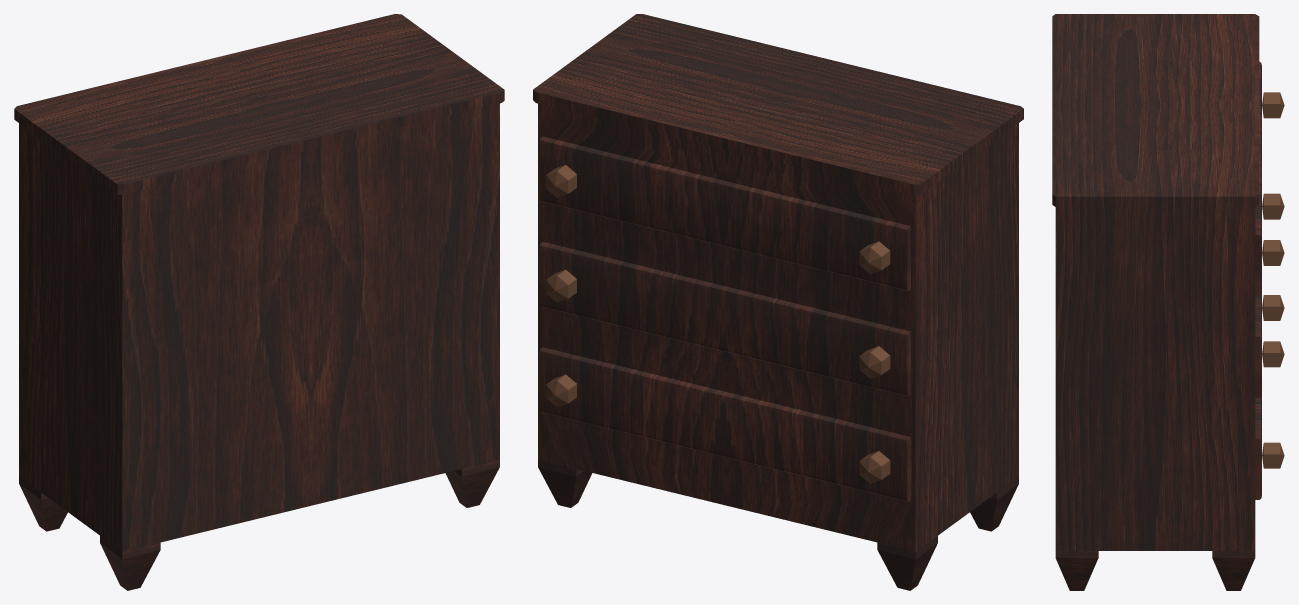
The model's file is Tumbochka.fbx.
3 renders of one model, left to right at view 1: azimuth 30°, elevation 25°; view 2: azimuth 150°, elevation 25°; view 3: azimuth 270°, elevation 25°, orthographic. The views are drawn at different scales.
Parts seen in each view (by area): view 1: Cube, Cube.004, Cube.002, Cube.003; view 2: Cube, Cube.003, Sphere.002, Sphere.001, Sphere, Cube.001, Cube.004; view 3: Cube, Cube.002, Cube.001, Sphere.001, Sphere, Sphere.002.
Boxes of the visible parts, bbox=[...] form: Cube: bbox=[14, 14, 504, 551]; Cube.004: bbox=[100, 536, 160, 590]; Cube.002: bbox=[445, 460, 499, 507]; Cube.003: bbox=[19, 476, 67, 531]; Cube: bbox=[533, 14, 1023, 551]; Cube.003: bbox=[877, 536, 937, 590]; Sphere.002: bbox=[546, 374, 890, 483]; Sphere.001: bbox=[546, 269, 890, 378]; Sphere: bbox=[546, 165, 890, 274]; Cube.001: bbox=[538, 459, 592, 507]; Cube.004: bbox=[970, 476, 1018, 531]; Cube: bbox=[1052, 14, 1261, 550]; Cube.002: bbox=[1055, 551, 1098, 590]; Cube.001: bbox=[1212, 551, 1255, 590]; Sphere.001: bbox=[1262, 193, 1284, 367]; Sphere: bbox=[1262, 92, 1284, 265]; Sphere.002: bbox=[1262, 295, 1284, 468].
Bounding box in the file's own units: 484 × 497 × 260.
2 materials, 1 textured.
